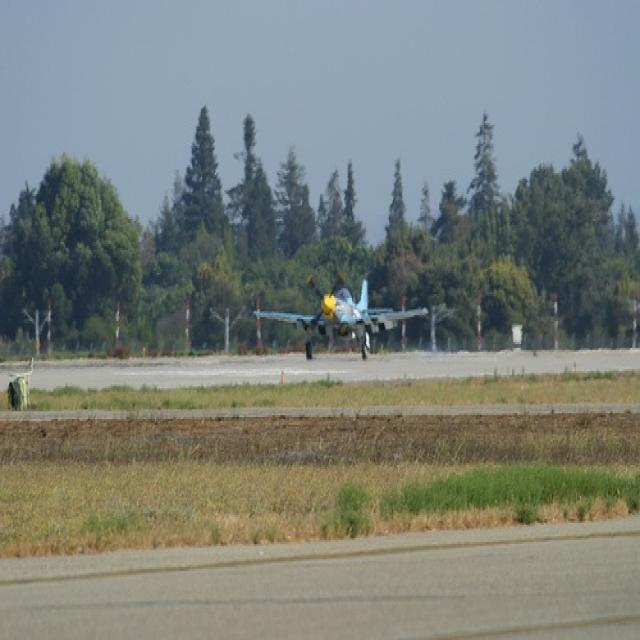aeroplane: (252, 275, 428, 359)
